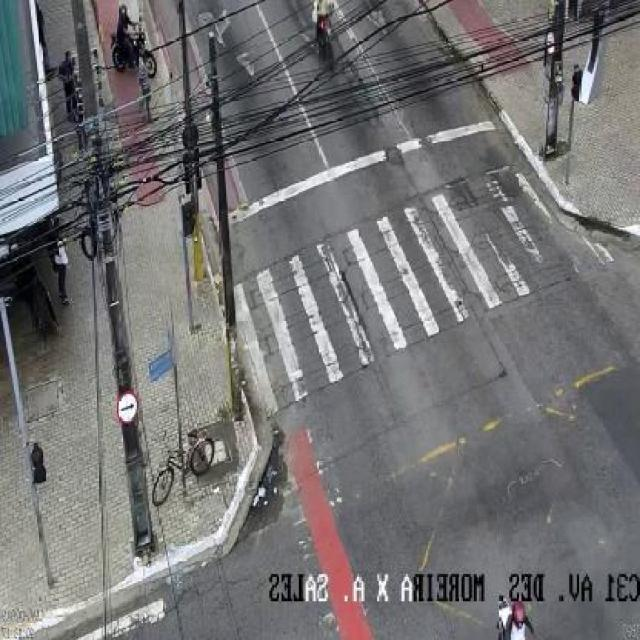Cycle: (304, 0, 343, 68)
